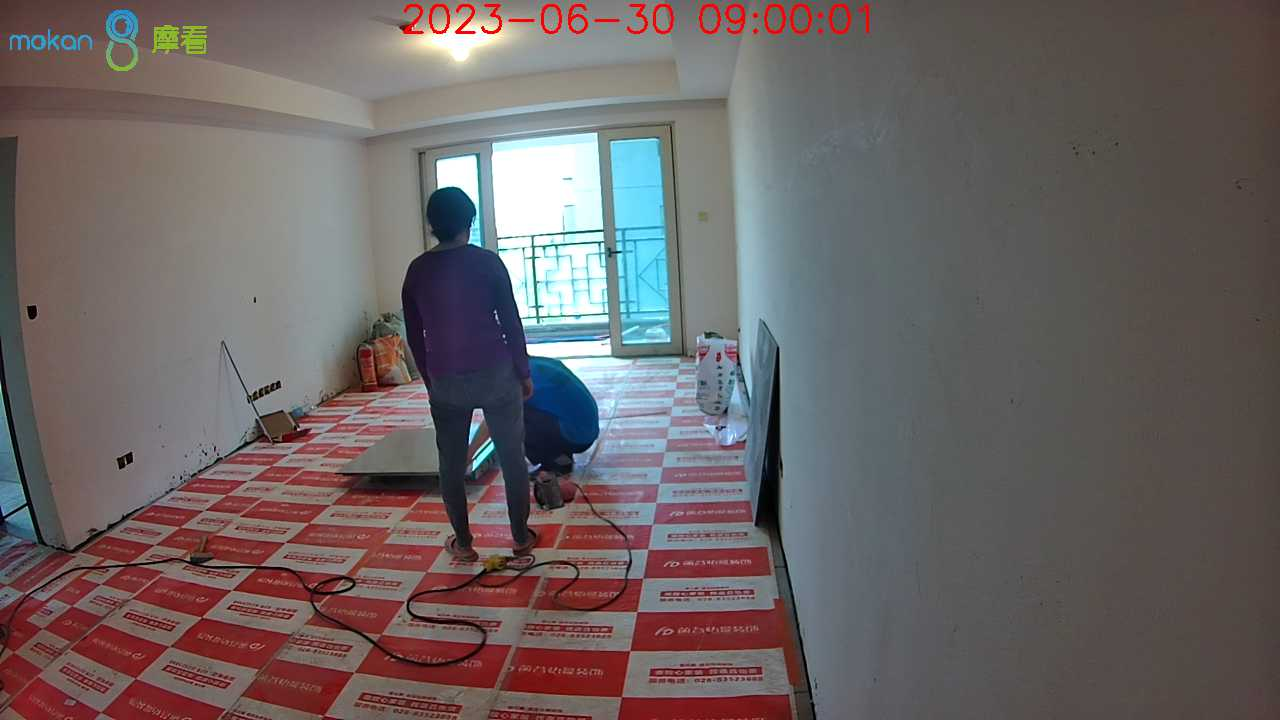people: (401, 188, 595, 552)
window: (430, 151, 674, 352)
